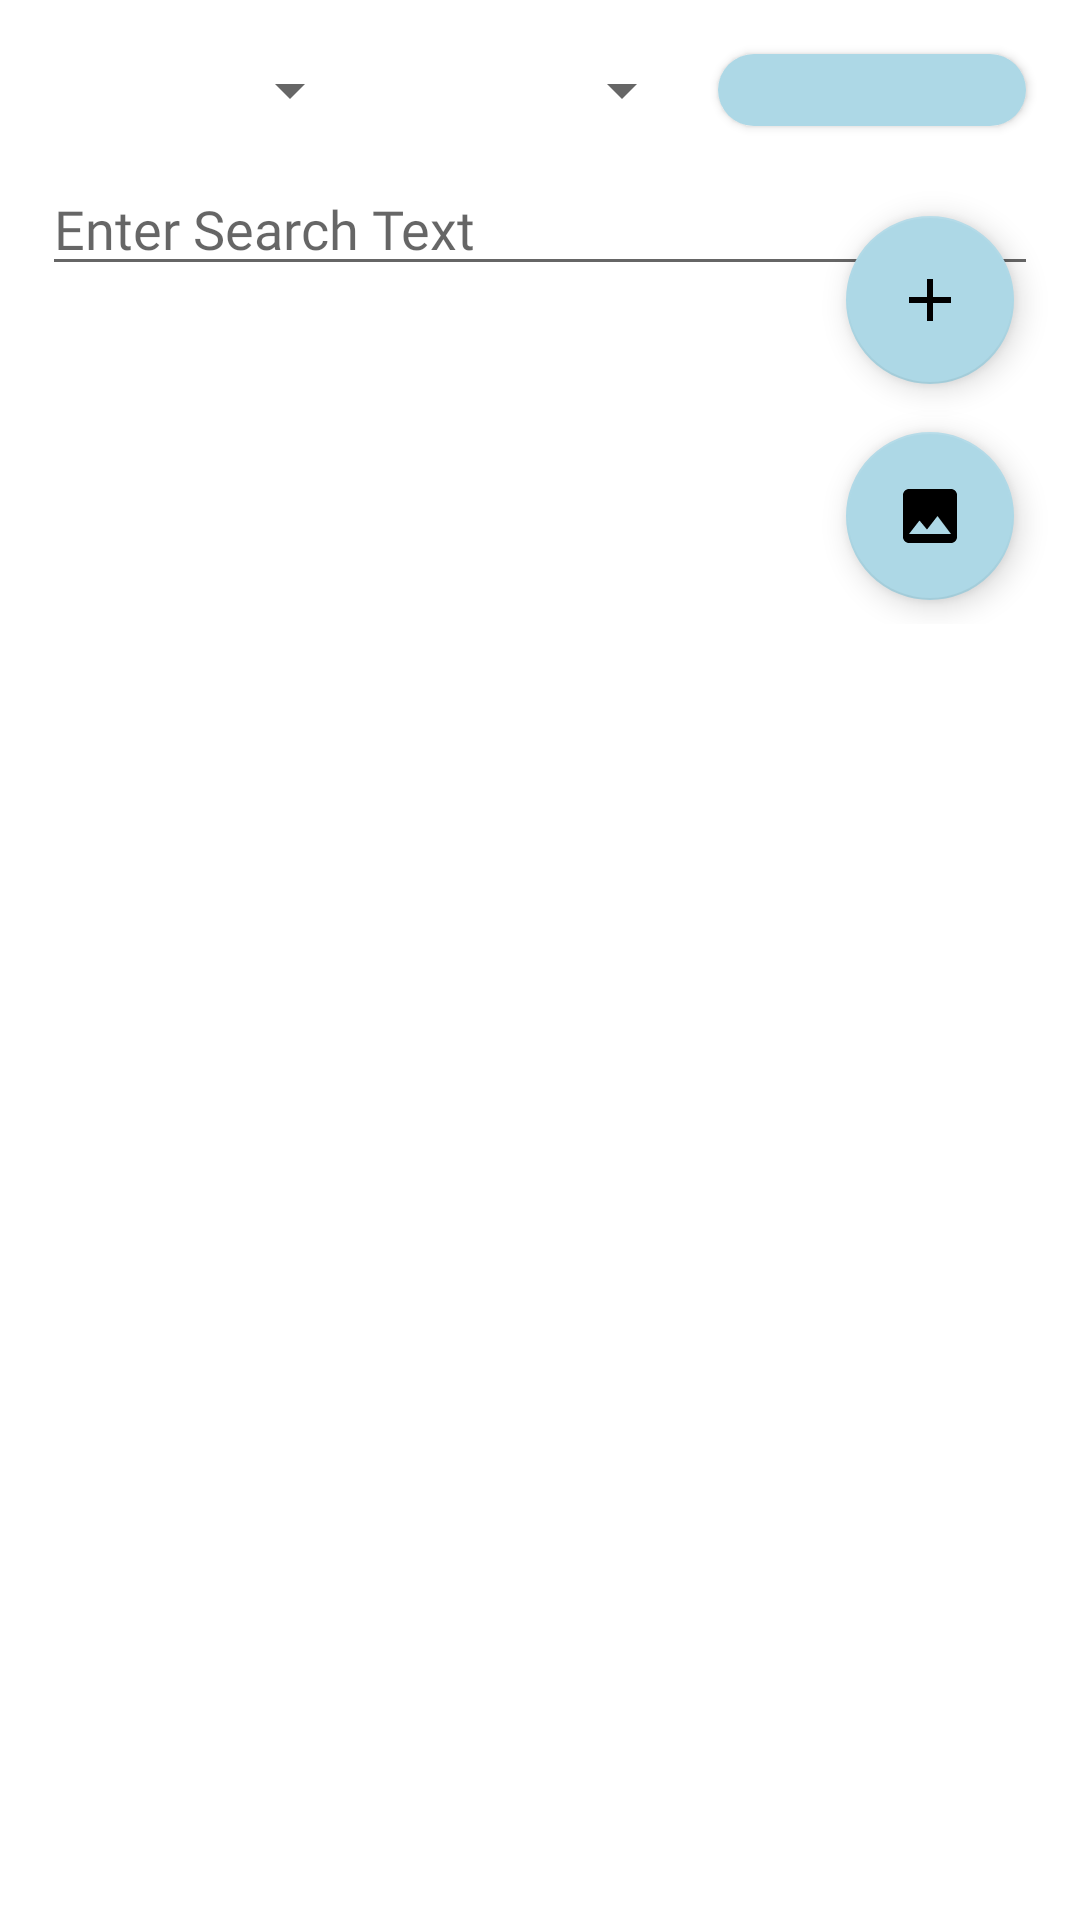

Where icons sit on this 1080px×1920px app screen, as (x1, y1, x2, y2):
prov add: (846, 216, 1014, 384)
